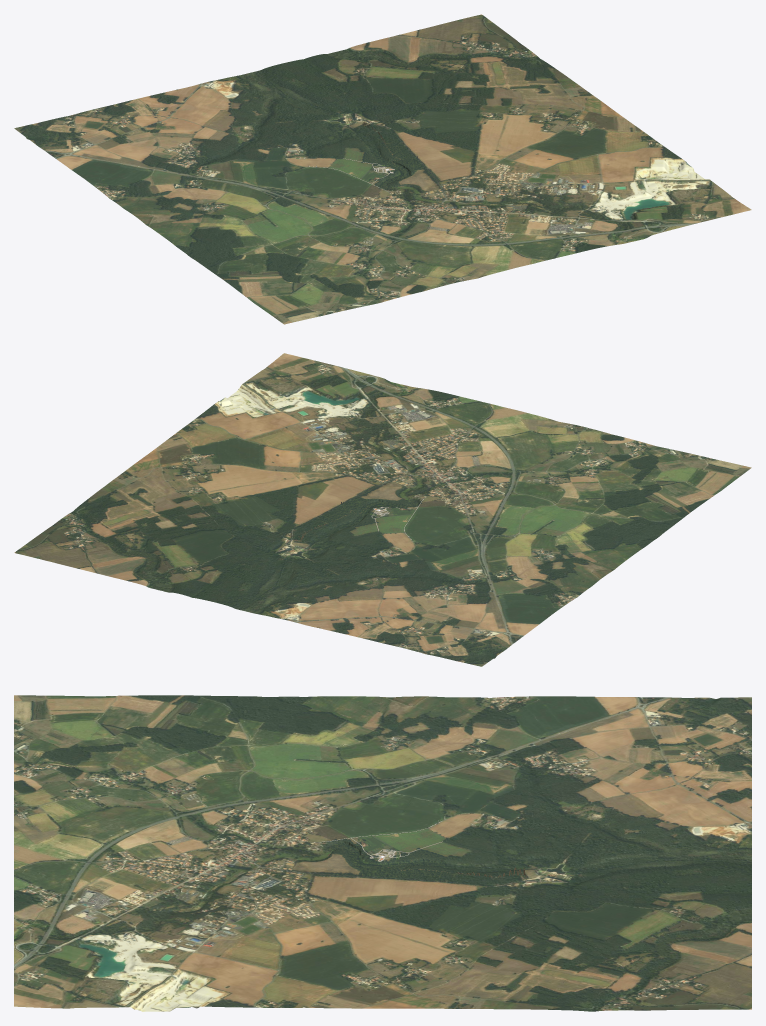
File: terrain.glb
The picture shows the model from 3 angles, top to bottom: view 1: azimuth 30°, elevation 25°; view 2: azimuth 150°, elevation 25°; view 3: azimuth 270°, elevation 25°; orthographic projection. The views are drawn at different scales.
Parts seen in each view (by area): view 1: SITE_terrain_terrain_lointain, SITE_terrain_terrain; view 2: SITE_terrain_terrain_lointain, SITE_terrain_terrain; view 3: SITE_terrain_terrain_lointain, SITE_terrain_terrain.
Boxes of the visible parts, x1,y1,x2,y2 form: SITE_terrain_terrain_lointain: (14,14,751,324); SITE_terrain_terrain: (331,144,437,191); SITE_terrain_terrain_lointain: (14,353,751,666); SITE_terrain_terrain: (325,488,431,535); SITE_terrain_terrain_lointain: (14,695,751,1011); SITE_terrain_terrain: (328,833,447,876).
Bounding box in the file's own units: 3990 × 634 × 3990.
7 materials, 2 textured.
